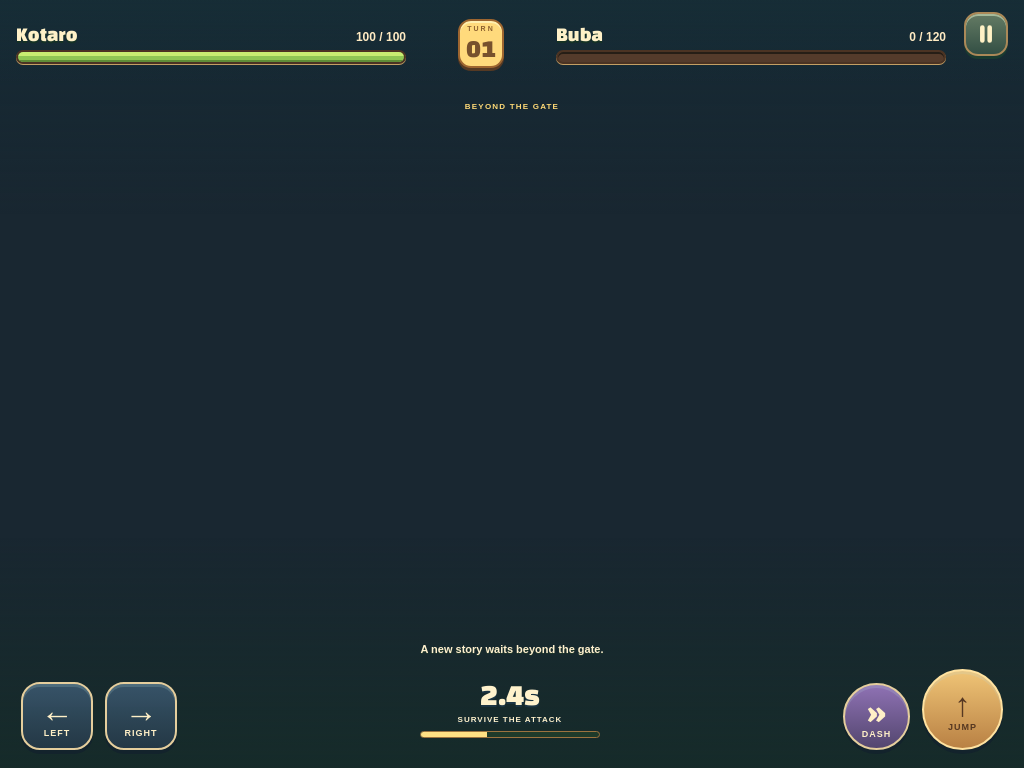
Test: pausing a dodge locks the engine, and retreat resumes it before navigating
Step 1. Click the button named "Pause encounter" → (986, 34), box 964,12 -> 1008,56
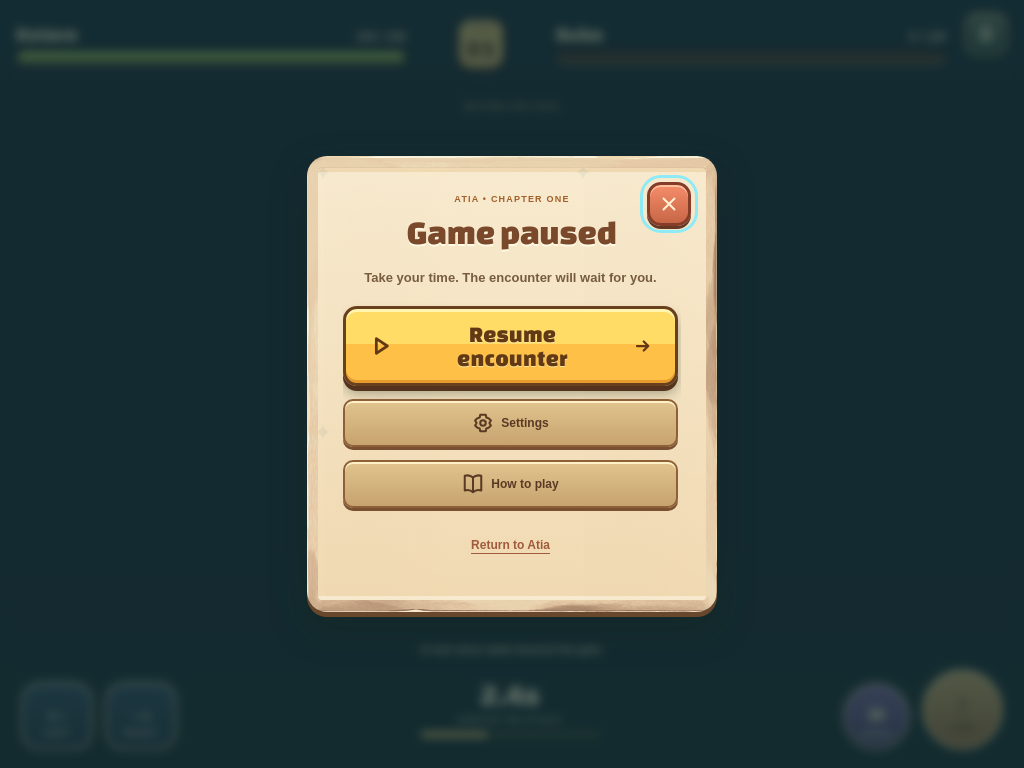
Expected: the dialog "Game paused" is shown, 307,156 -> 717,612
Step 2. Click the button with aria-label "Retreat from encounter" → (510, 545), box 343,521 -> 678,569
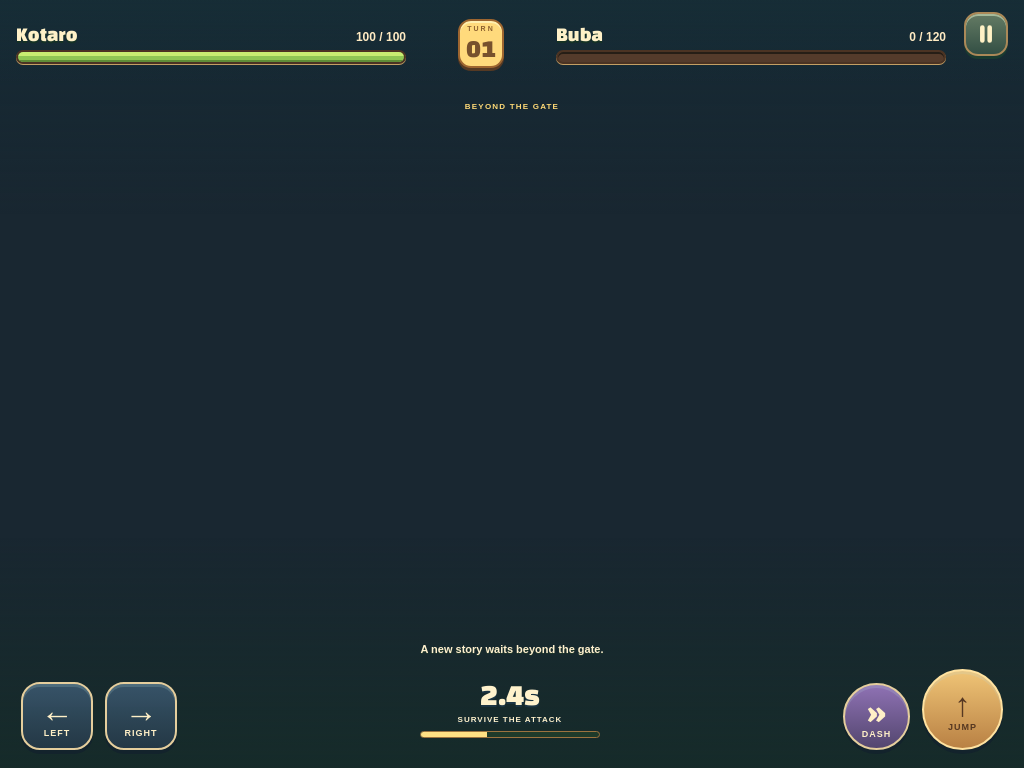
Expected: the dialog is gone
